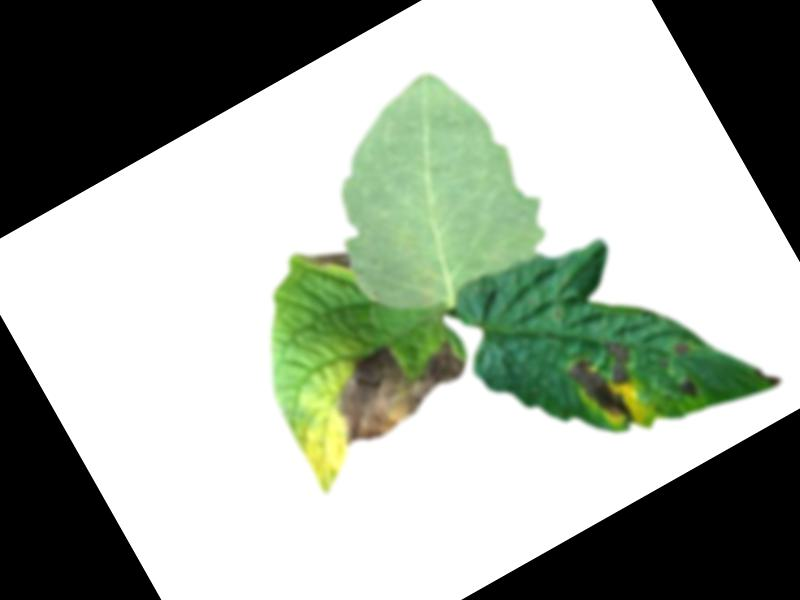Early_blight: (311, 312, 479, 456), (562, 332, 662, 439), (306, 238, 356, 288), (753, 358, 783, 392), (677, 377, 700, 402), (669, 338, 691, 358)
healthy: (281, 52, 567, 344)
